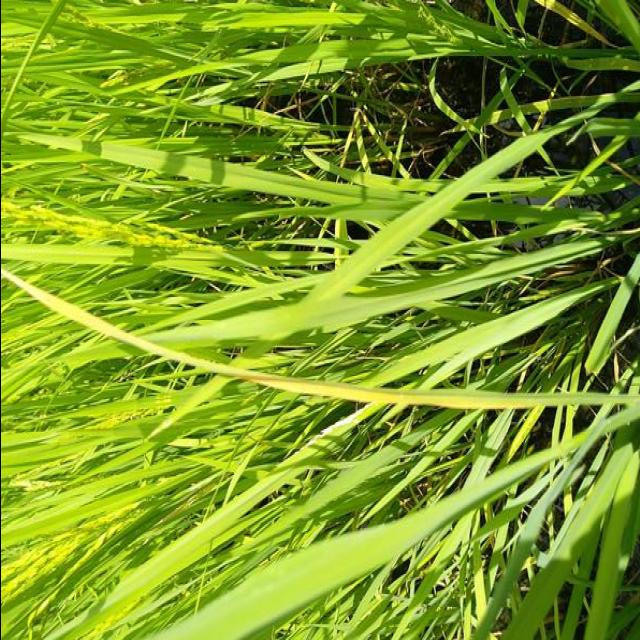Leaf Blight: (9, 271, 538, 409)
